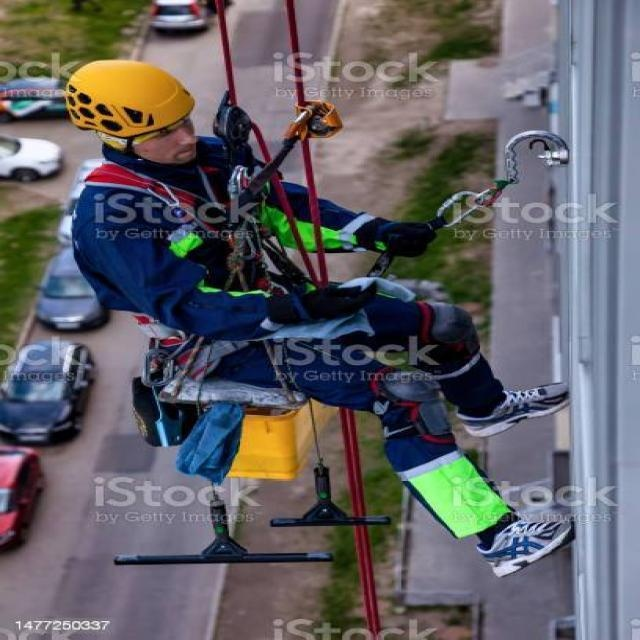Arnes_seguridad: (81, 147, 341, 422)
